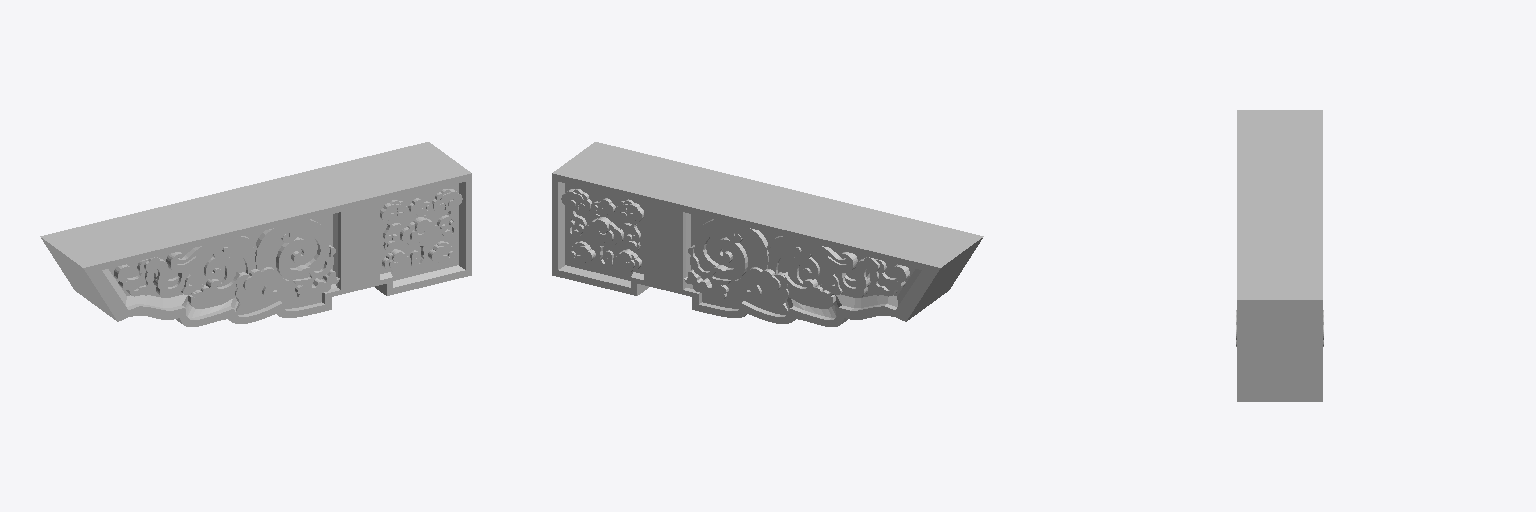
The model's file is Queti.obj.
The picture shows the model from 3 angles: view 1: azimuth 30°, elevation 25°; view 2: azimuth 150°, elevation 25°; view 3: azimuth 270°, elevation 25°; orthographic projection.
Parts seen in each view (by area): view 1: polySurface6197 Flower_board:FlowerPl11, Flower_board:FlowerPl11 polySurface6244, Flower_board:FlowerPl11 polySurface6246, Flower_board:FlowerPl11 polySurface6245, Flower_board:FlowerPl11 polySurface6227, Flower_board:FlowerPl11 polySurface6253, Flower_board:FlowerPl11 polySurface6228, Flower_board:FlowerPl11 polySurface6226, Flower_board:FlowerPl11 polySurface6230, Flower_board:FlowerPl11 polySurface6225, Flower_board:FlowerPl11 polySurface6231, Flower_board:FlowerPl11 polySurface6242; view 2: polySurface6197 Flower_board:FlowerPl11, Flower_board:FlowerPl11 polySurface6244, Flower_board:FlowerPl11 polySurface6246, Flower_board:FlowerPl11 polySurface6245, Flower_board:FlowerPl11 polySurface6227, Flower_board:FlowerPl11 polySurface6253, Flower_board:FlowerPl11 polySurface6228, Flower_board:FlowerPl11 polySurface6226, Flower_board:FlowerPl11 polySurface6230, Flower_board:FlowerPl11 polySurface6225, Flower_board:FlowerPl11 polySurface6231, Flower_board:FlowerPl11 polySurface6242; view 3: polySurface6197 Flower_board:FlowerPl11.
Boxes of the visible parts, x1,y1,x2,y2 form: polySurface6197 Flower_board:FlowerPl11: [40, 142, 471, 326]; Flower_board:FlowerPl11 polySurface6244: [255, 225, 329, 279]; Flower_board:FlowerPl11 polySurface6246: [114, 257, 189, 297]; Flower_board:FlowerPl11 polySurface6245: [189, 243, 255, 291]; Flower_board:FlowerPl11 polySurface6227: [293, 245, 339, 298]; Flower_board:FlowerPl11 polySurface6253: [236, 276, 321, 314]; Flower_board:FlowerPl11 polySurface6228: [176, 236, 258, 263]; Flower_board:FlowerPl11 polySurface6226: [255, 219, 320, 253]; Flower_board:FlowerPl11 polySurface6230: [190, 272, 239, 300]; Flower_board:FlowerPl11 polySurface6225: [243, 267, 289, 290]; Flower_board:FlowerPl11 polySurface6231: [410, 217, 440, 244]; Flower_board:FlowerPl11 polySurface6242: [188, 283, 260, 308]; polySurface6197 Flower_board:FlowerPl11: [552, 142, 983, 326]; Flower_board:FlowerPl11 polySurface6244: [694, 225, 768, 279]; Flower_board:FlowerPl11 polySurface6246: [834, 257, 909, 297]; Flower_board:FlowerPl11 polySurface6245: [768, 243, 834, 291]; Flower_board:FlowerPl11 polySurface6227: [684, 245, 730, 298]; Flower_board:FlowerPl11 polySurface6253: [702, 276, 787, 314]; Flower_board:FlowerPl11 polySurface6228: [766, 236, 847, 263]; Flower_board:FlowerPl11 polySurface6226: [703, 219, 768, 253]; Flower_board:FlowerPl11 polySurface6230: [784, 272, 833, 300]; Flower_board:FlowerPl11 polySurface6225: [734, 267, 780, 290]; Flower_board:FlowerPl11 polySurface6231: [583, 217, 613, 244]; Flower_board:FlowerPl11 polySurface6242: [763, 283, 835, 308]; polySurface6197 Flower_board:FlowerPl11: [1237, 110, 1322, 401].
Bounding box in the file's own units: 1.92 × 0.4838 × 0.3763.